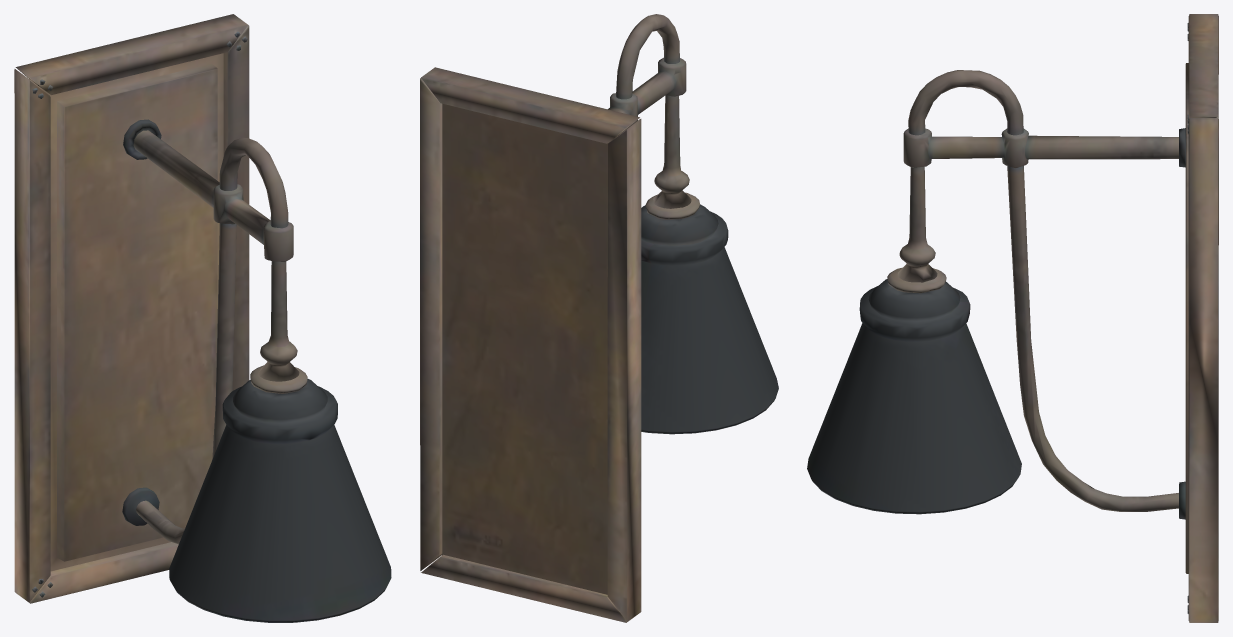
File: sconce.glb
3 views of the same model, side by side, from view 1: azimuth 30°, elevation 25°; view 2: azimuth 150°, elevation 25°; view 3: azimuth 270°, elevation 25° (orthographic). The views are drawn at different scales.
Parts seen in each view (by area): view 1: industrial_wall_sconce; view 2: industrial_wall_sconce; view 3: industrial_wall_sconce.
Boxes of the visible parts, bbox=[...] form: industrial_wall_sconce: bbox=[14, 14, 391, 622]; industrial_wall_sconce: bbox=[420, 14, 778, 622]; industrial_wall_sconce: bbox=[807, 14, 1218, 622].
Bounding box in the file's own units: 0.1499 × 0.3413 × 0.2516.
Materials: 2 (2 with a texture image).
